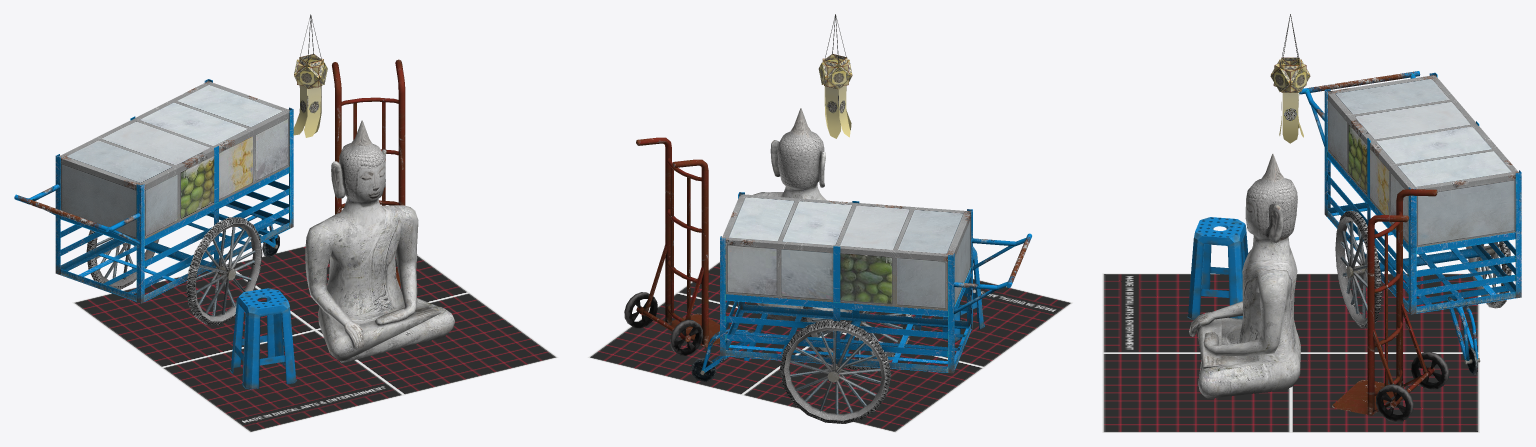
File: th_props_b.glb
The picture shows the model from 3 angles, left to right: view 1: azimuth 30°, elevation 25°; view 2: azimuth 150°, elevation 25°; view 3: azimuth 270°, elevation 25°; orthographic projection. The views are drawn at different scales.
Parts seen in each view (by area): view 1: Fruit Cart_tex_FruitCart_0, floor_grid, Buddha, Stool_tex_Stool_0, HandTruck_tex_HandTruck_0, Lantern; view 2: Fruit Cart_tex_FruitCart_0, floor_grid, HandTruck_tex_HandTruck_0, Buddha, Lantern, Stool_tex_Stool_0; view 3: floor_grid, Fruit Cart_tex_FruitCart_0, Buddha, HandTruck_tex_HandTruck_0, Stool_tex_Stool_0, Lantern.
Part boxes in pixels (left/top/right/bottom): Fruit Cart_tex_FruitCart_0: left=14, top=79, right=293, bottom=325; floor_grid: left=72, top=245, right=558, bottom=432; Buddha: left=305, top=120, right=454, bottom=363; Stool_tex_Stool_0: left=230, top=288, right=296, bottom=389; HandTruck_tex_HandTruck_0: left=329, top=59, right=405, bottom=285; Lantern: left=293, top=14, right=327, bottom=137; Fruit Cart_tex_FruitCart_0: left=691, top=192, right=1031, bottom=423; floor_grid: left=587, top=261, right=1072, bottom=432; HandTruck_tex_HandTruck_0: left=624, top=137, right=727, bottom=355; Buddha: left=753, top=108, right=848, bottom=322; Lantern: left=818, top=14, right=852, bottom=138; Stool_tex_Stool_0: left=913, top=246, right=984, bottom=341; floor_grid: left=1102, top=273, right=1479, bottom=432; Fruit Cart_tex_FruitCart_0: left=1299, top=71, right=1521, bottom=374; Buddha: left=1189, top=153, right=1300, bottom=398; HandTruck_tex_HandTruck_0: left=1332, top=189, right=1449, bottom=422; Stool_tex_Stool_0: left=1187, top=217, right=1248, bottom=319; Lantern: left=1270, top=14, right=1310, bottom=143.
Bounding box in the file's own units: 256 × 197 × 222.
Materials: 6 (6 with a texture image).
